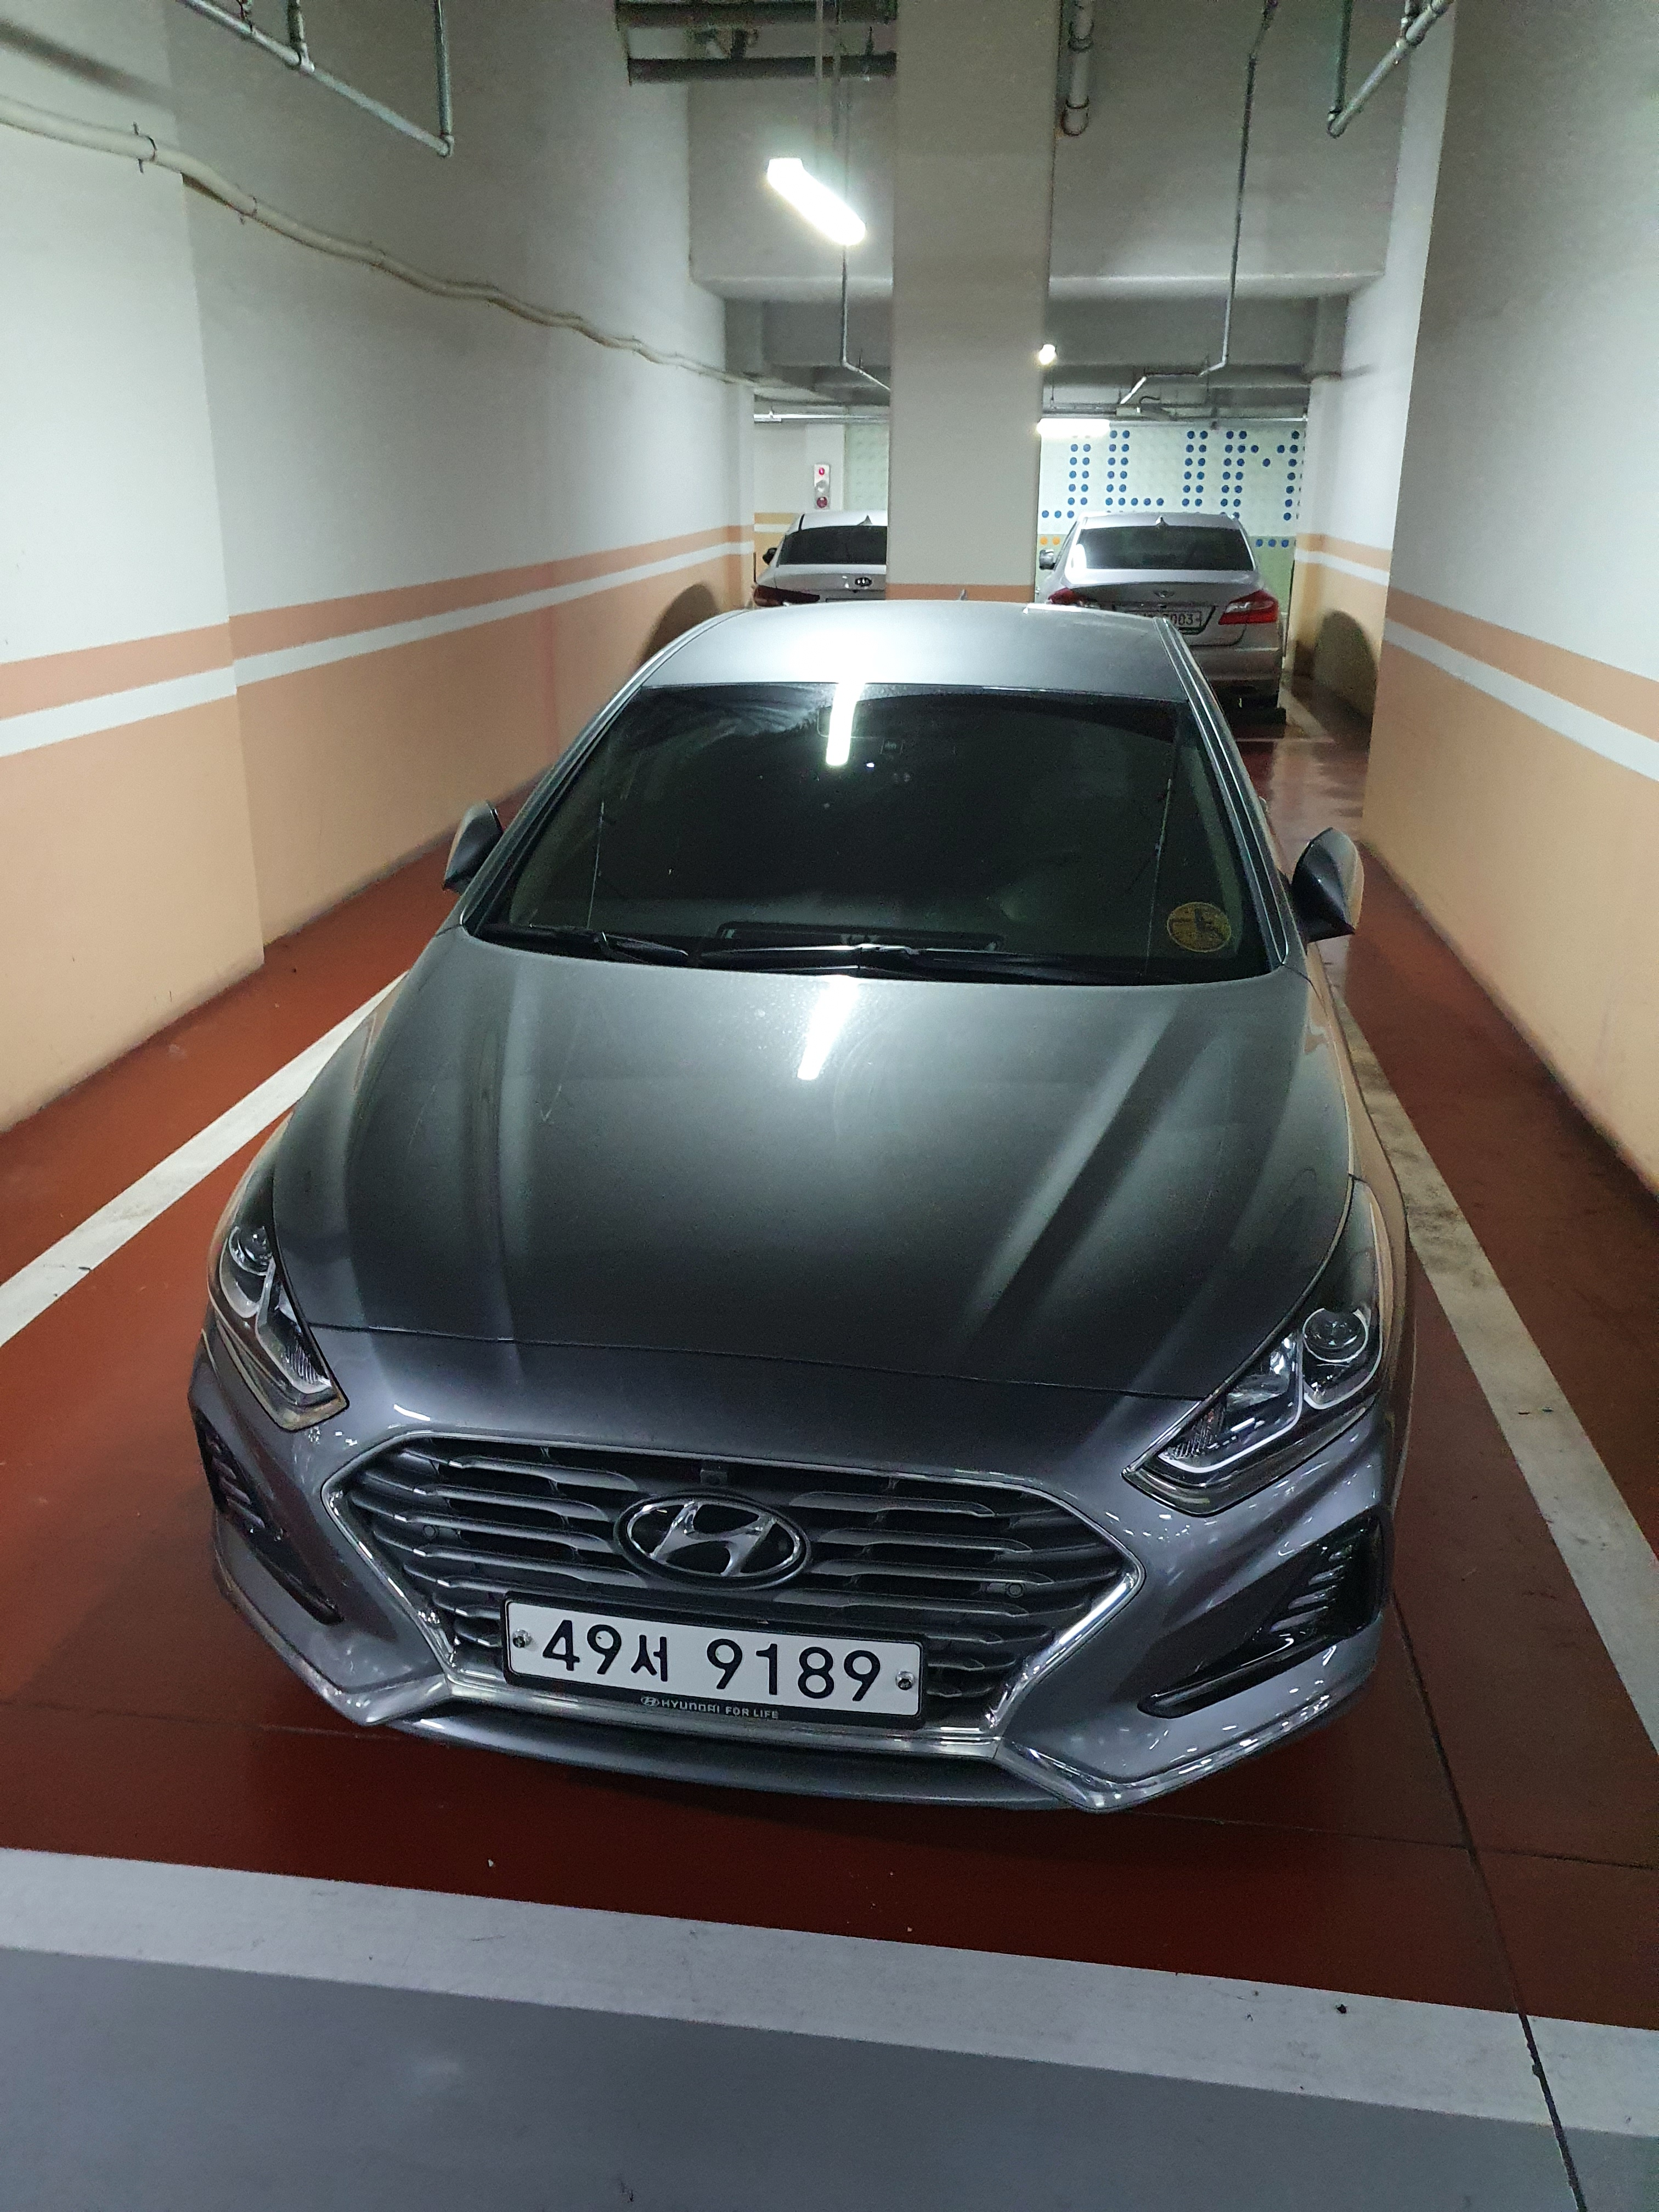disabled_parking: (1161, 897, 1239, 956)
